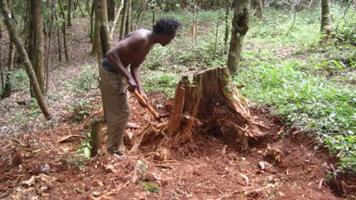person: (99, 19, 181, 156)
